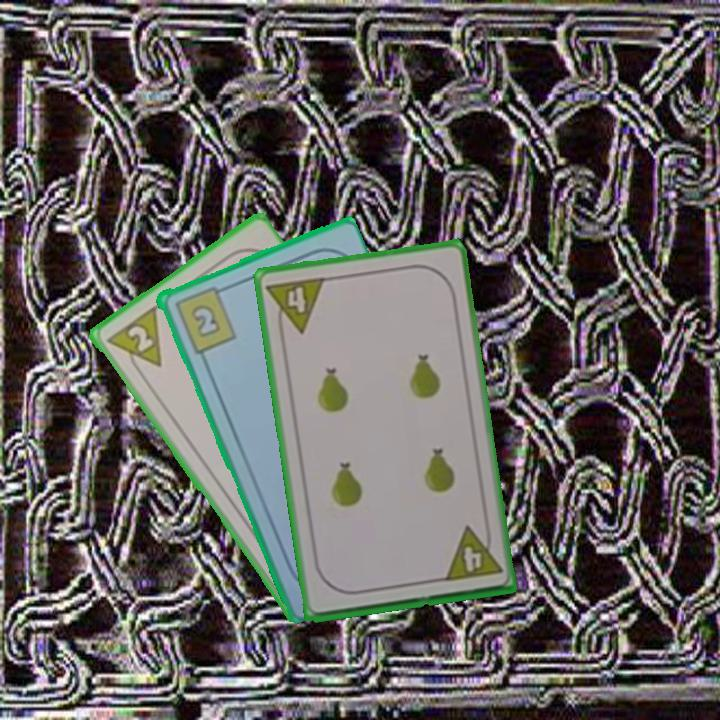2b: (170, 282, 239, 356)
2p: (102, 303, 165, 381)
4p: (263, 273, 328, 339), (440, 521, 505, 584)
